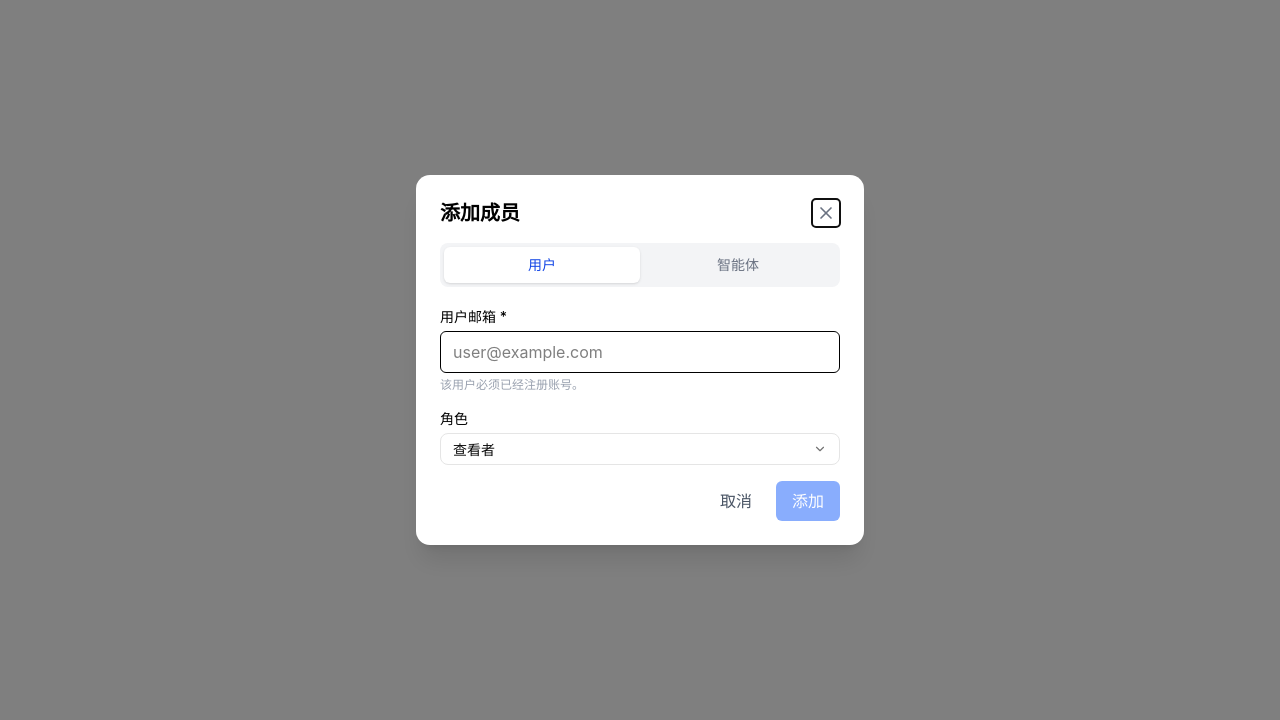
Scenario: AddSpaceMemberDialog › renders an empty state and disables agent submission
Click the button "智能体" at (738, 265), box [640,247,836,283]
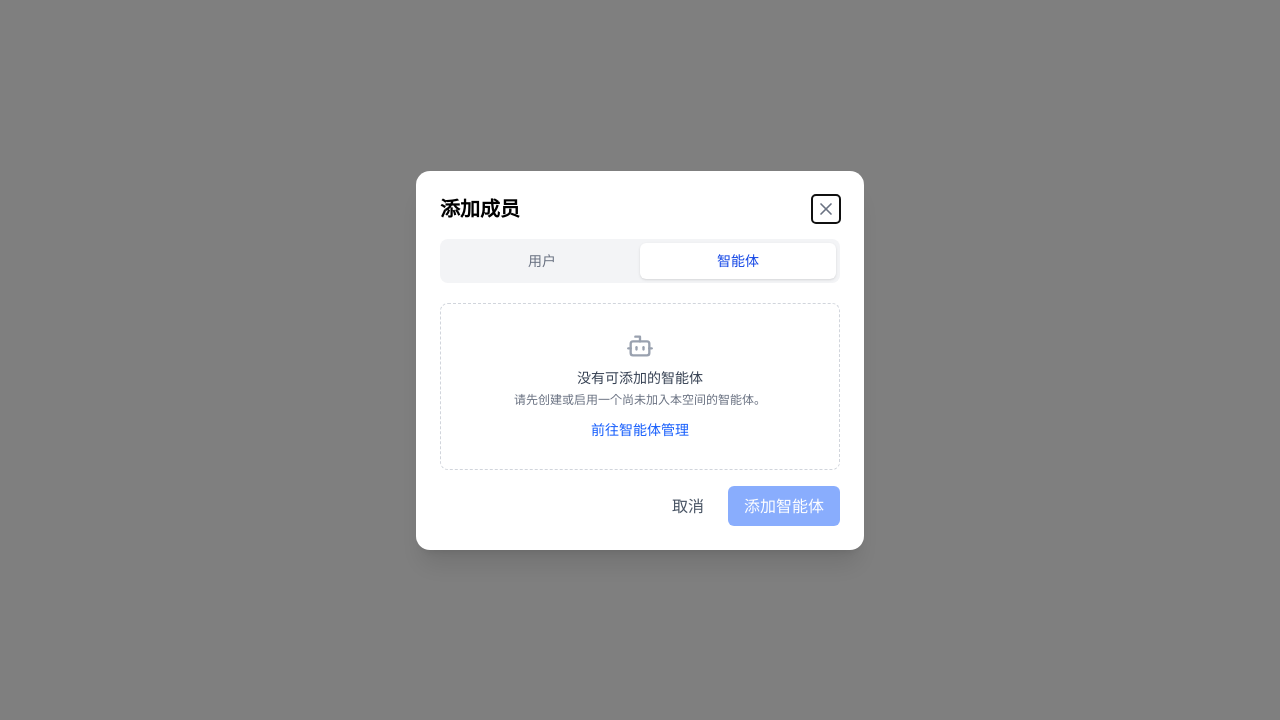
Expected: the button "添加智能体" is disabled, [728,486,840,526]
Result: the text "没有可添加的智能体" is shown at [577,368,703,386]
